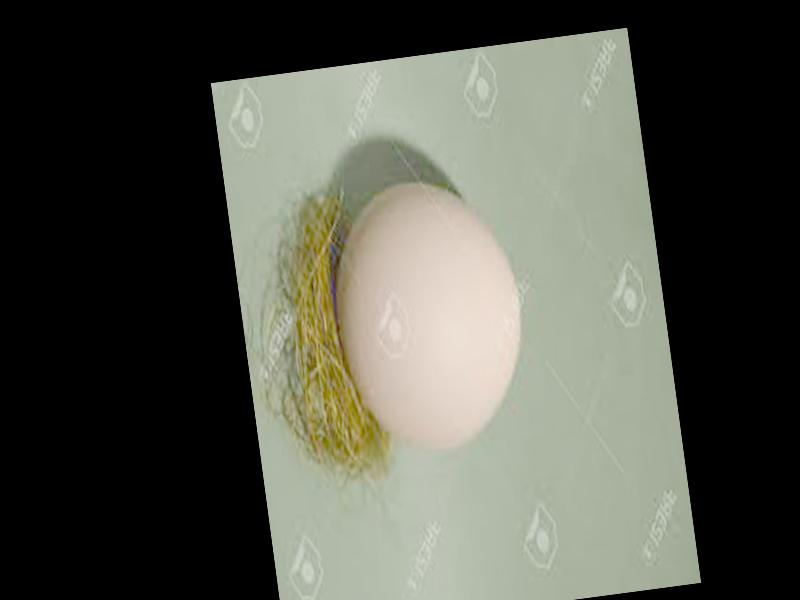Eggs: (324, 170, 538, 458)
